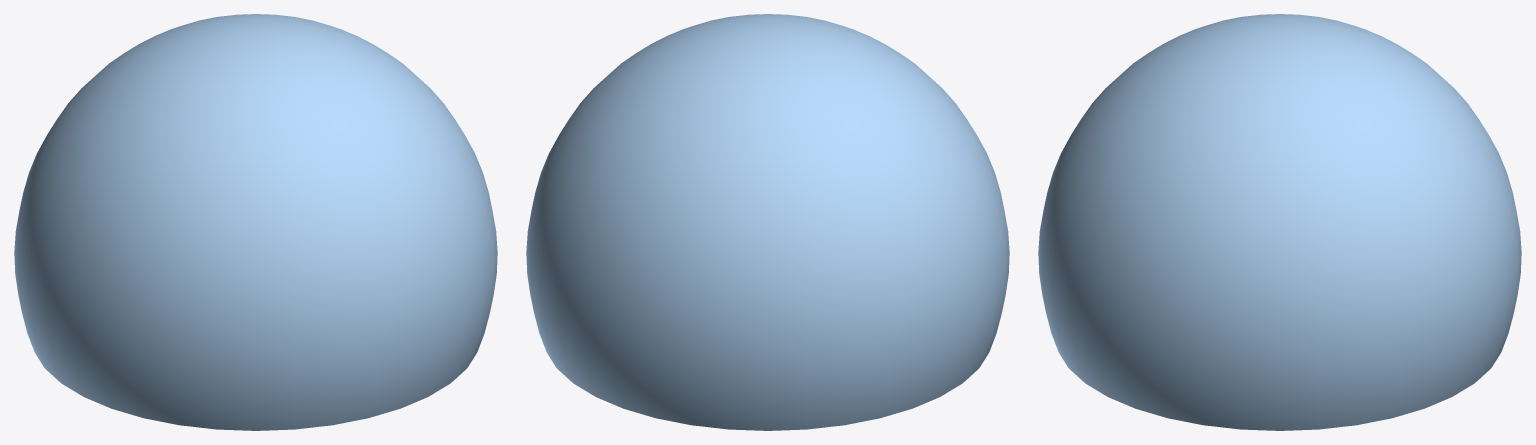
File: sky_dome_analytic.glb
3 renders of one model, left to right at view 1: azimuth 30°, elevation 25°; view 2: azimuth 150°, elevation 25°; view 3: azimuth 270°, elevation 25°, orthographic.
Parts seen in each view (by area): view 1: RootNode; view 2: RootNode; view 3: RootNode.
Boxes of the visible parts, <box> form: RootNode: <box>14,14,497,430</box>; RootNode: <box>526,14,1009,430</box>; RootNode: <box>1038,14,1521,430</box>.
Bounding box in the file's own units: 136 × 93.03 × 136.
